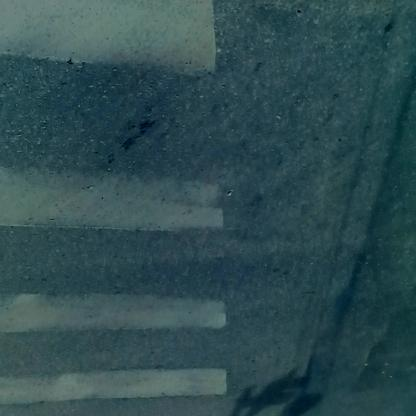crosswalk: (2, 2, 236, 410)
